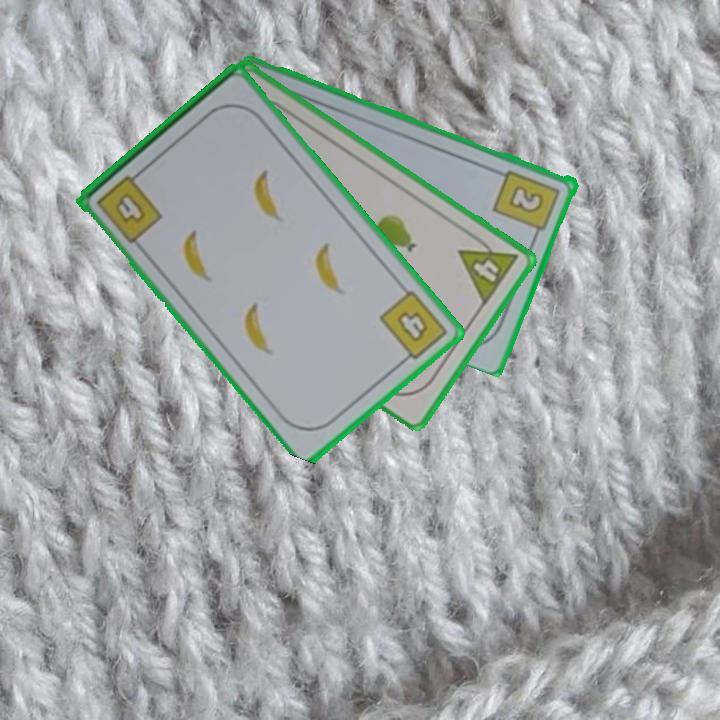2b: (490, 166, 563, 241)
4b: (376, 286, 451, 368), (92, 166, 166, 246)
4p: (455, 228, 521, 308)
